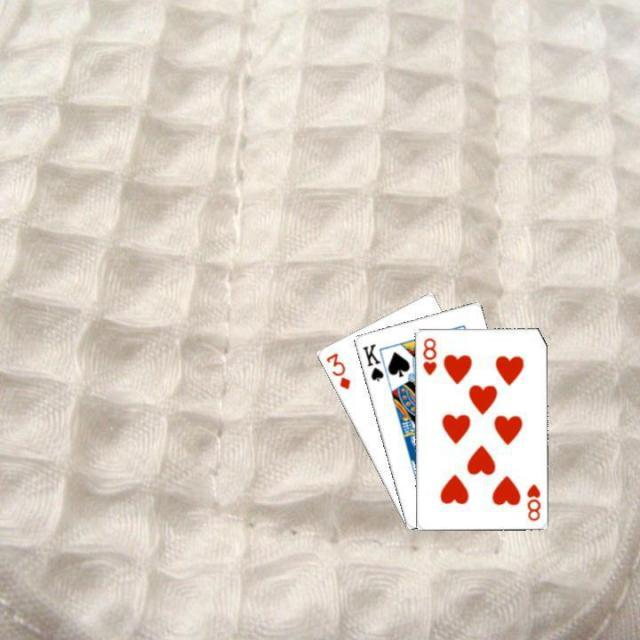3D: (322, 348, 352, 392)
8H: (418, 334, 438, 377), (522, 480, 542, 523)
KS: (358, 340, 385, 383)
